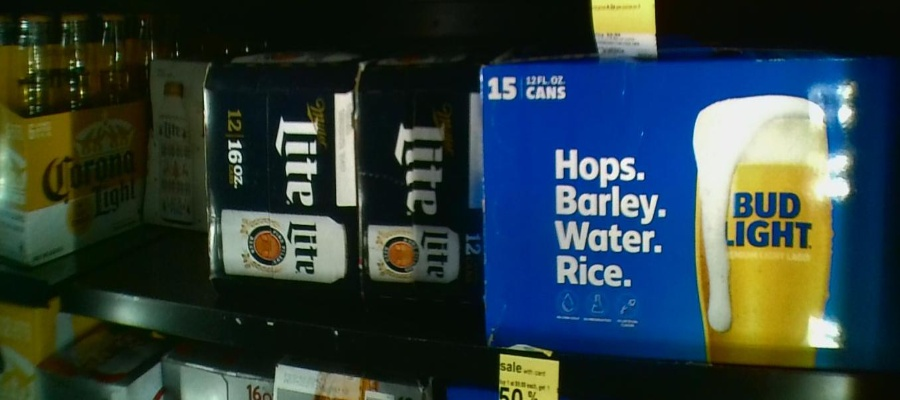bottle: (482, 55, 899, 373), (201, 54, 359, 313), (2, 2, 148, 266), (353, 57, 485, 308), (150, 47, 202, 230)
